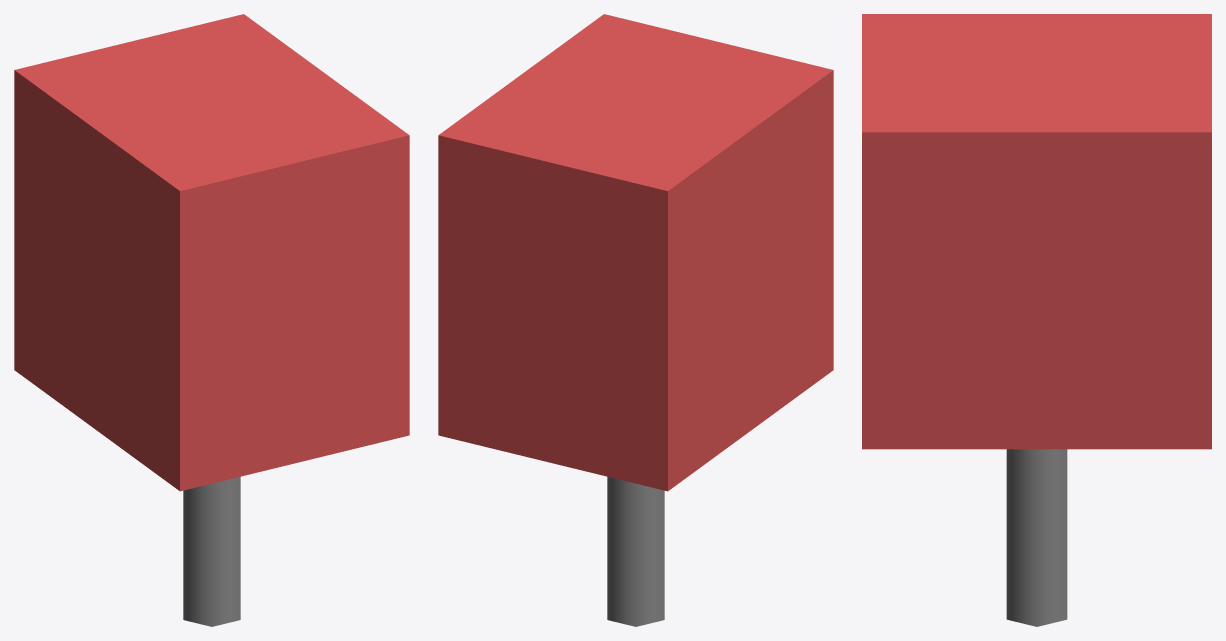
File: mailbox_japan.glb
3 renders of one model, left to right at view 1: azimuth 30°, elevation 25°; view 2: azimuth 150°, elevation 25°; view 3: azimuth 270°, elevation 25°, orthographic. The views are drawn at different scales.
Visible parts, largest first — view 1: mailbox_japan; view 2: mailbox_japan; view 3: mailbox_japan.
Boxes of the visible parts, x1,y1,x2,y2 form: mailbox_japan: (14, 14, 409, 626); mailbox_japan: (438, 14, 833, 626); mailbox_japan: (862, 14, 1211, 626).
Size of the model in its own units: 0.4 by 0.85 by 0.5.
